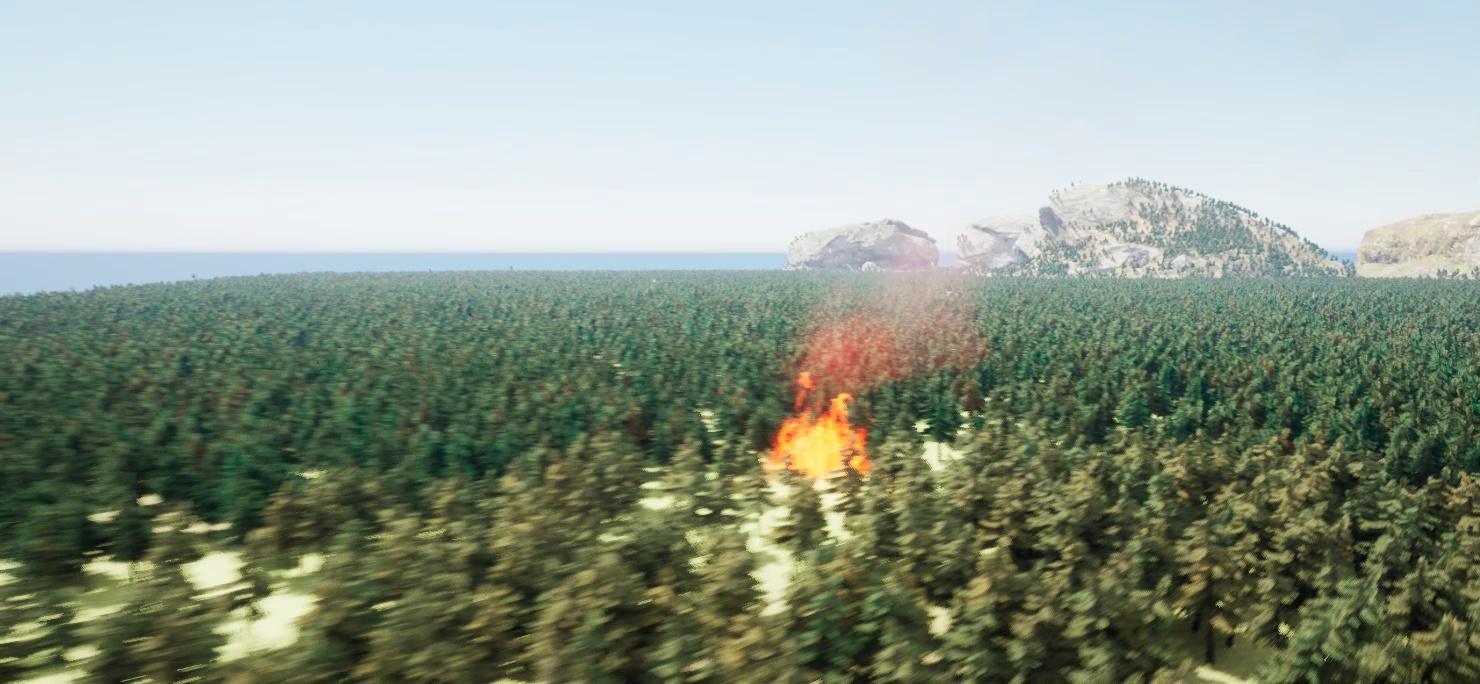fire: (757, 371, 874, 484)
smoke: (789, 233, 989, 405)
